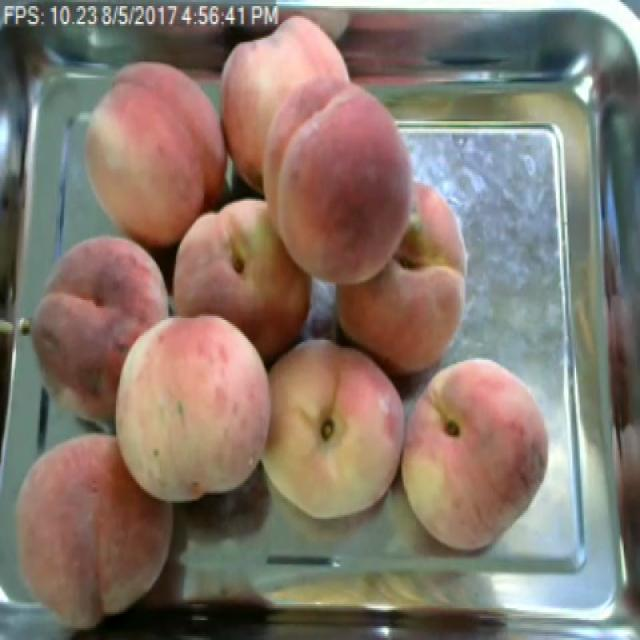Fruit: (236, 32, 431, 300), (12, 219, 187, 467), (93, 300, 288, 521), (0, 417, 191, 640), (393, 352, 564, 560), (251, 326, 416, 531), (330, 165, 478, 384), (75, 52, 232, 256), (161, 185, 324, 372)
